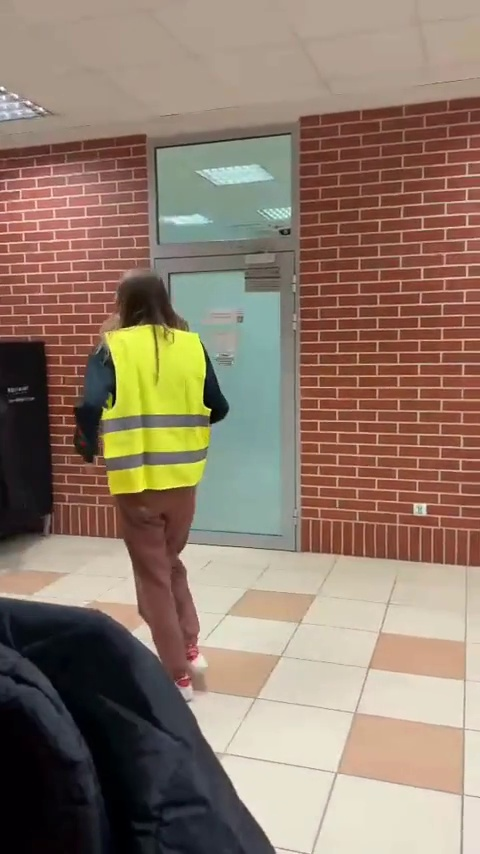vest: (73, 267, 236, 688)
